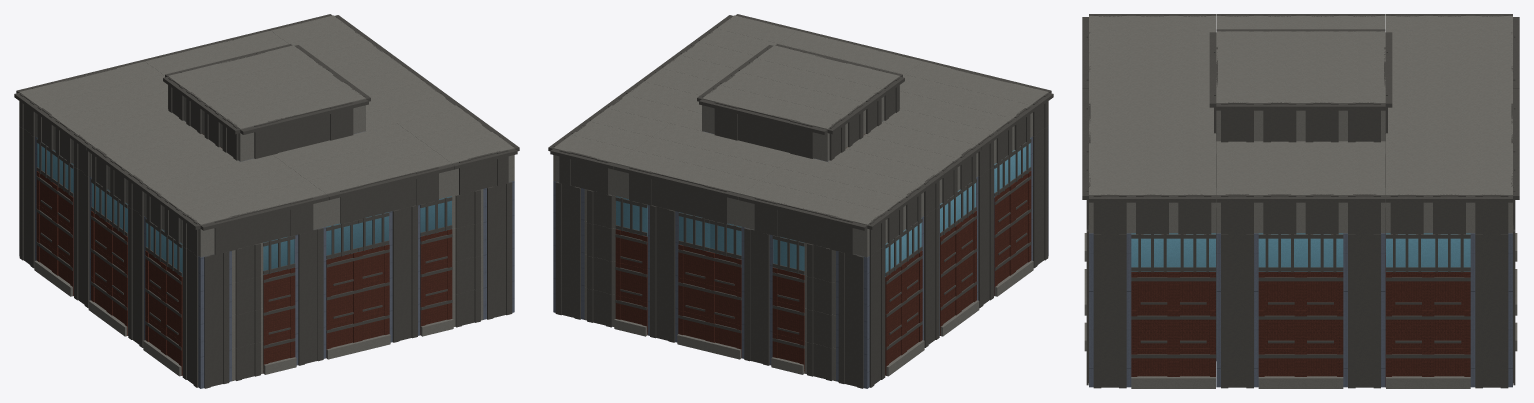
The model's file is stump.fbx.
3 renders of one model, left to right at view 1: azimuth 30°, elevation 25°; view 2: azimuth 150°, elevation 25°; view 3: azimuth 270°, elevation 25°, orthographic. The views are drawn at different scales.
Visible parts, largest first — view 1: concrete_x03_y05_z06, concrete_x00_y04_z09, steel_x00_y00_z09, concrete_x04_y04_z09, steel_x03_y00_z09, steel_x09_y00_z09, steel_x06_y00_z09, concrete_x08_y04_z09, concrete_x03_y05_z03, concrete_x00_y04_z00, concrete_x03_y05_z05, concrete_x03_y05_z04 (+59 smaller); view 2: concrete_x03_y05_z03, concrete_x00_y04_z00, steel_x00_y00_z00, concrete_x04_y04_z00, steel_x03_y00_z00, steel_x09_y00_z00, steel_x06_y00_z00, concrete_x08_y04_z00, concrete_x03_y05_z06, concrete_x00_y04_z09, concrete_x03_y05_z04, concrete_x03_y05_z05 (+59 smaller); view 3: steel_x09_y00_z00, steel_x09_y00_z09, steel_x09_y00_z03, steel_x09_y00_z06, concrete_x03_y05_z03, concrete_x03_y05_z06, concrete_x03_y05_z04, concrete_x03_y05_z05, concrete_x07_y04_z03, concrete_x07_y04_z04, concrete_x07_y04_z05, concrete_x07_y04_z06 (+37 smaller).
Part boxes in pixels (x1,y1,x2,y2): concrete_x03_y05_z06: (217, 84, 370, 161); concrete_x00_y04_z09: (177, 181, 328, 257); steel_x00_y00_z09: (182, 246, 231, 388); concrete_x04_y04_z09: (308, 150, 454, 226); steel_x03_y00_z09: (294, 227, 326, 365); steel_x09_y00_z09: (483, 181, 514, 319); steel_x06_y00_z09: (389, 205, 420, 342); concrete_x08_y04_z09: (434, 134, 519, 195); concrete_x03_y05_z03: (163, 44, 315, 121); concrete_x00_y04_z00: (14, 60, 162, 137); concrete_x03_y05_z05: (199, 71, 352, 147); concrete_x03_y05_z04: (181, 58, 334, 134); concrete_x03_y05_z03: (697, 84, 850, 161); concrete_x00_y04_z00: (739, 181, 890, 257); steel_x00_y00_z00: (836, 246, 885, 388); concrete_x04_y04_z00: (613, 150, 759, 226); steel_x03_y00_z00: (741, 227, 773, 365); steel_x09_y00_z00: (553, 181, 584, 319); steel_x06_y00_z00: (647, 205, 678, 342); concrete_x08_y04_z00: (548, 134, 633, 195); concrete_x03_y05_z06: (752, 44, 904, 121); concrete_x00_y04_z09: (905, 60, 1053, 137); concrete_x03_y05_z04: (715, 71, 868, 147); concrete_x03_y05_z05: (733, 58, 886, 134); steel_x09_y00_z00: (1470, 225, 1515, 388); steel_x09_y00_z09: (1086, 225, 1131, 388); steel_x09_y00_z03: (1343, 233, 1385, 388); steel_x09_y00_z06: (1216, 233, 1258, 388); concrete_x03_y05_z03: (1343, 29, 1392, 142); concrete_x03_y05_z06: (1209, 29, 1258, 142); concrete_x03_y05_z04: (1301, 29, 1343, 142); concrete_x03_y05_z05: (1258, 29, 1300, 142); concrete_x07_y04_z03: (1343, 141, 1385, 234); concrete_x07_y04_z04: (1301, 141, 1343, 234); concrete_x07_y04_z05: (1258, 141, 1300, 234); concrete_x07_y04_z06: (1216, 141, 1258, 234).
Bounding box in the file's own units: 30.94 × 17.99 × 30.94.
Materials: 1 (1 with a texture image).
